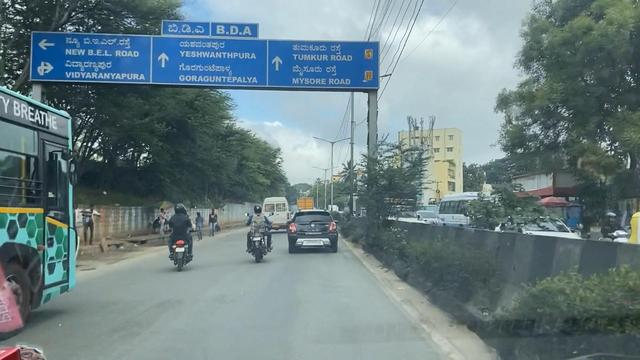LMV: (291, 210, 336, 253), (167, 196, 190, 270), (251, 204, 265, 259)
